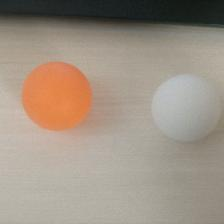WhiteBall: (150, 74, 218, 142)
YellowBall: (20, 61, 92, 131)
